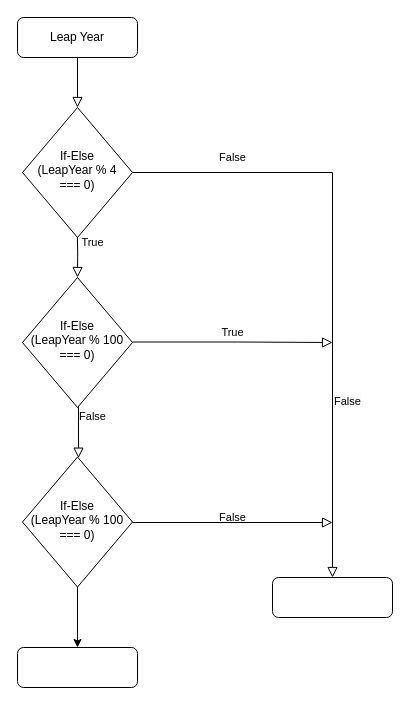
Some shapes in this 410 by 713 pixel diagram are drawn without their labels. Each missing label, with the centre of its shape:
Execute: (77,667)
Exit: (332,597)
